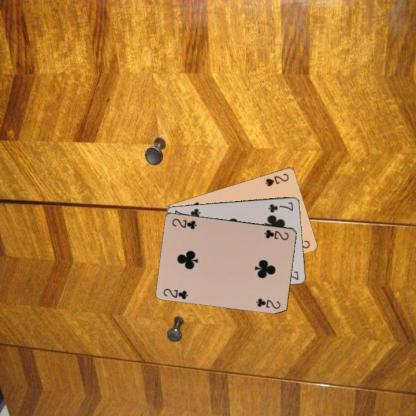2c: (262, 227, 290, 242), (161, 286, 190, 300)
2s: (262, 171, 290, 188)
7c: (266, 199, 295, 214)
